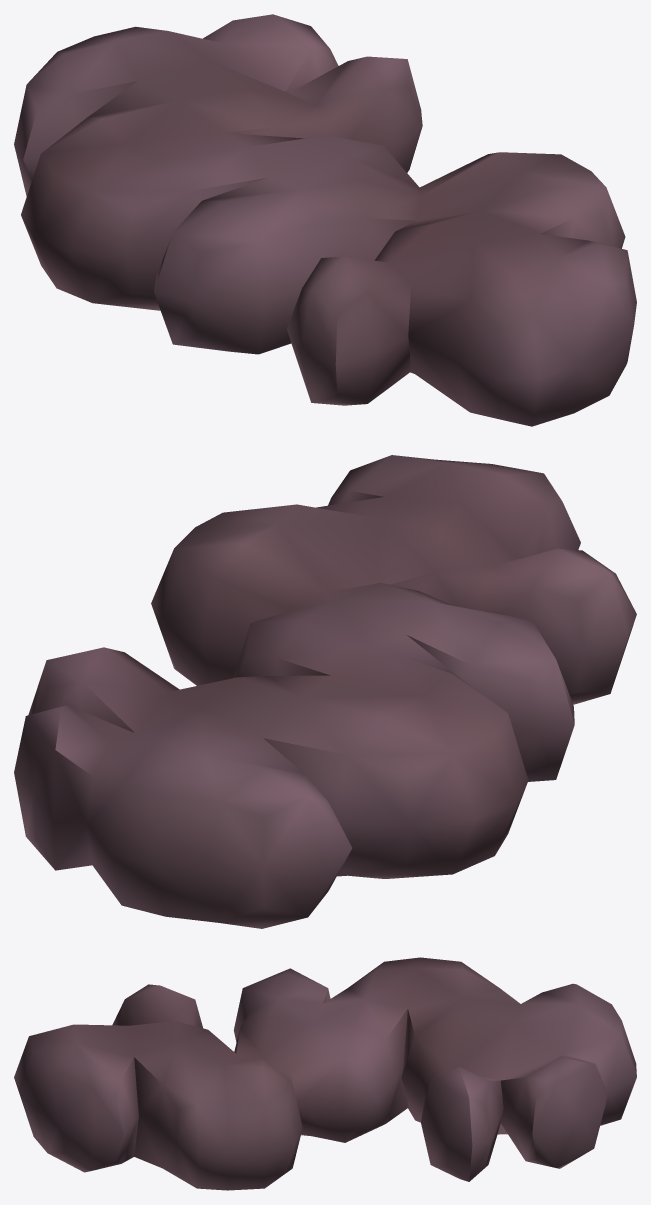
Rendered from microscopic-cells-platelet_v1.glb.
3 views of the same model, one above another, from view 1: azimuth 30°, elevation 25°; view 2: azimuth 150°, elevation 25°; view 3: azimuth 270°, elevation 25° (orthographic). The views are drawn at different scales.
Parts seen in each view (by area): view 1: Platelet_v1; view 2: Platelet_v1; view 3: Platelet_v1.
Boxes of the visible parts, x1,y1,x2,y2 form: Platelet_v1: (14,14,636,426); Platelet_v1: (14,455,636,928); Platelet_v1: (14,957,636,1190).
Size of the model in its own units: 0.1893 by 0.0596 by 0.3.
